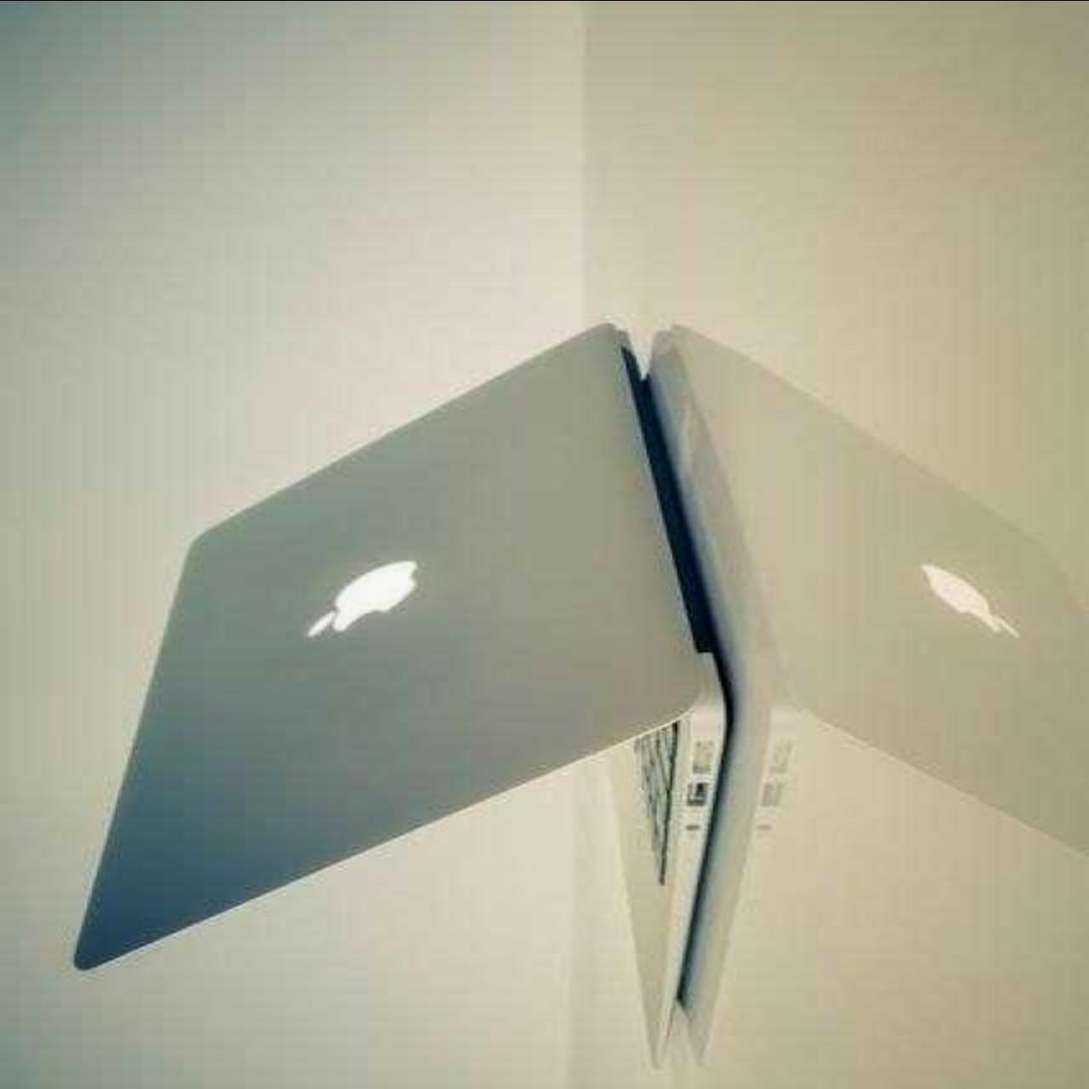laptop: (85, 400, 732, 1077)
